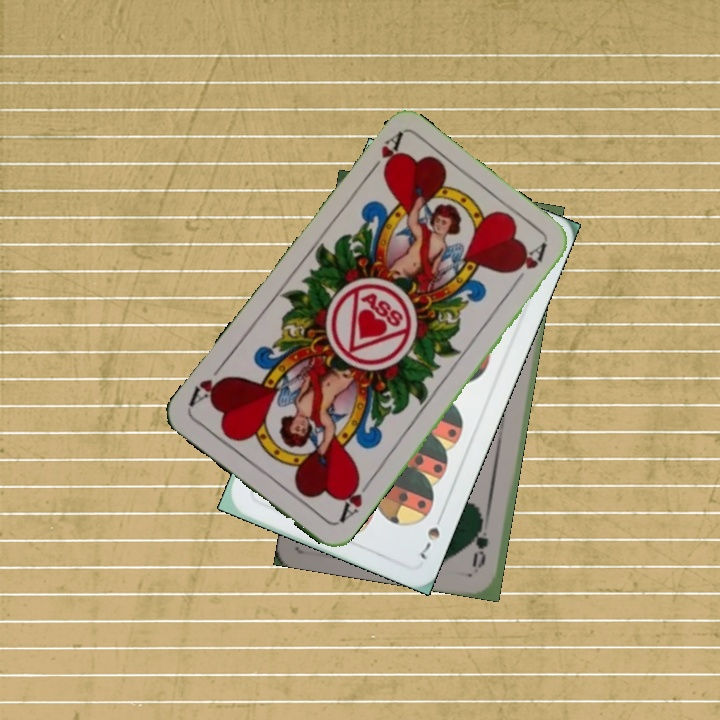GO: (469, 512, 491, 572)
HA: (362, 129, 405, 180), (334, 473, 375, 526)
S7: (414, 508, 446, 562)
